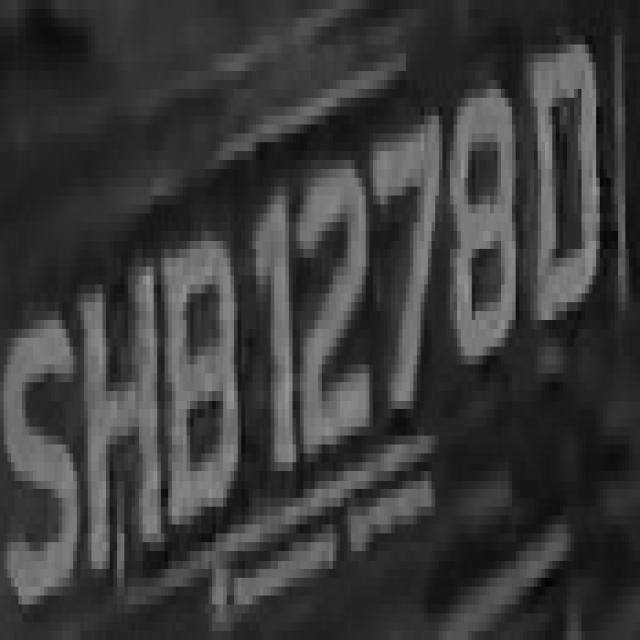1: (256, 124, 304, 516)
2: (292, 124, 380, 489)
7: (362, 116, 446, 462)
8: (439, 45, 519, 382)
B: (157, 169, 245, 560)
D: (523, 9, 603, 364)
H: (80, 231, 164, 622)
S: (0, 4, 1, 9)
